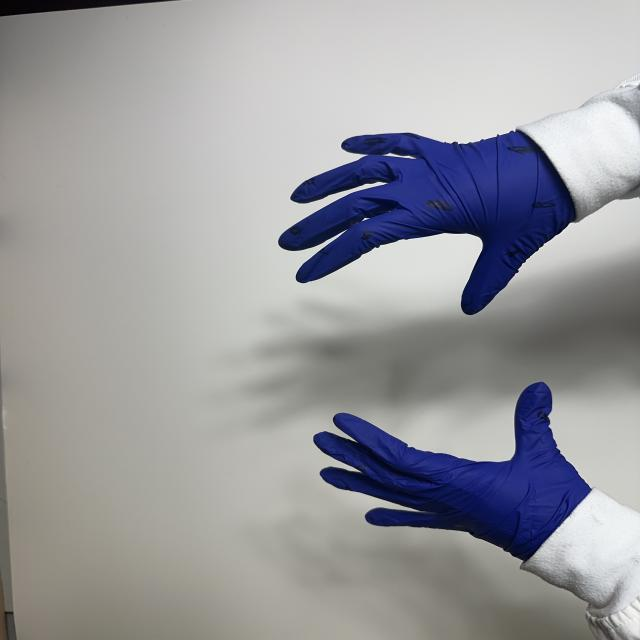gloves_contaminated: (279, 132, 575, 315), (314, 382, 590, 561)
